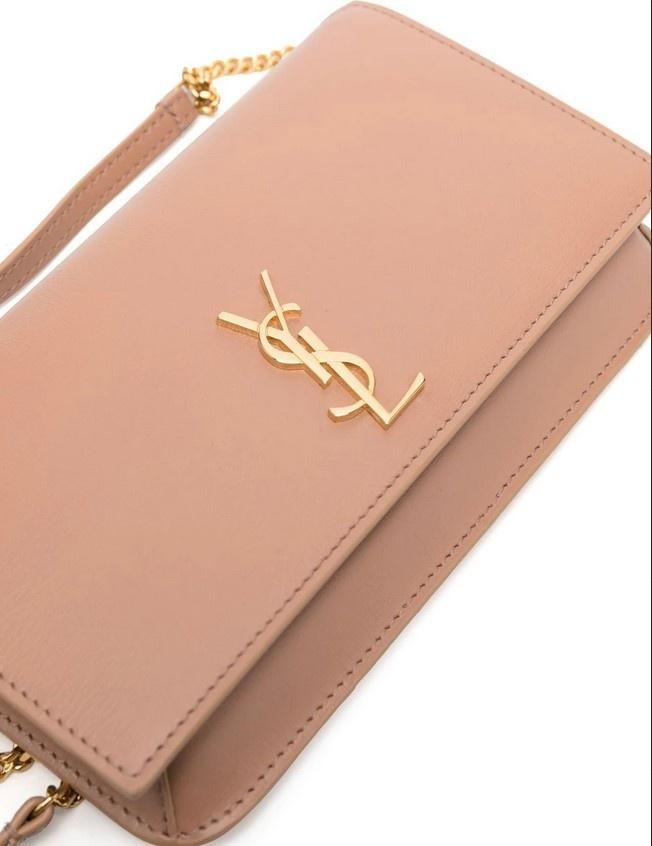YVES-SAINT-LAURENT: (216, 269, 425, 430)
